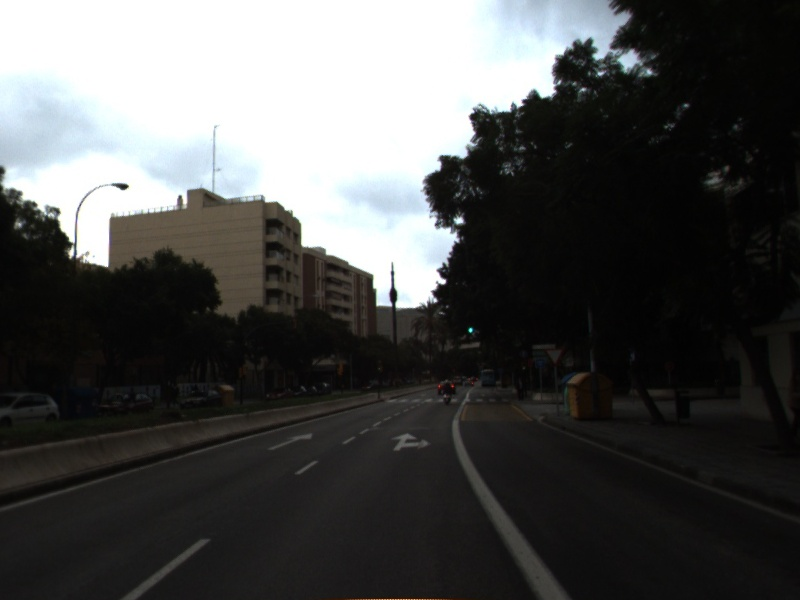STRAIGHT: (265, 430, 315, 452)
STRAIGHT_RIGHT: (388, 431, 435, 453)
